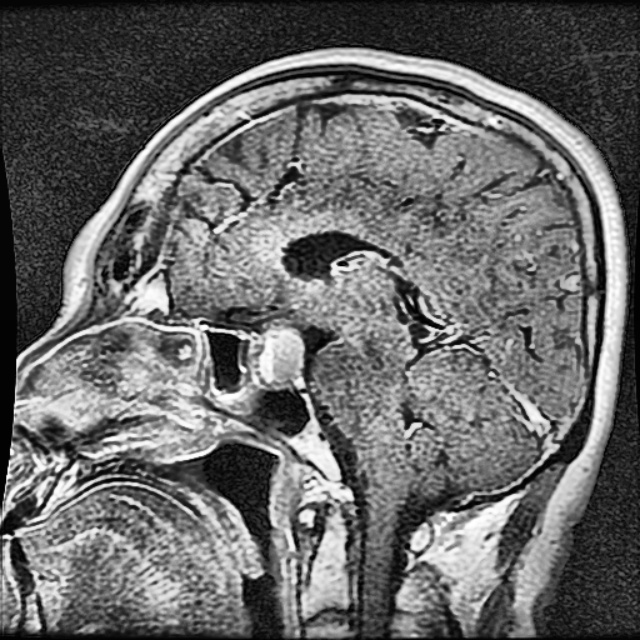Pituitary: (262, 330, 303, 382)
